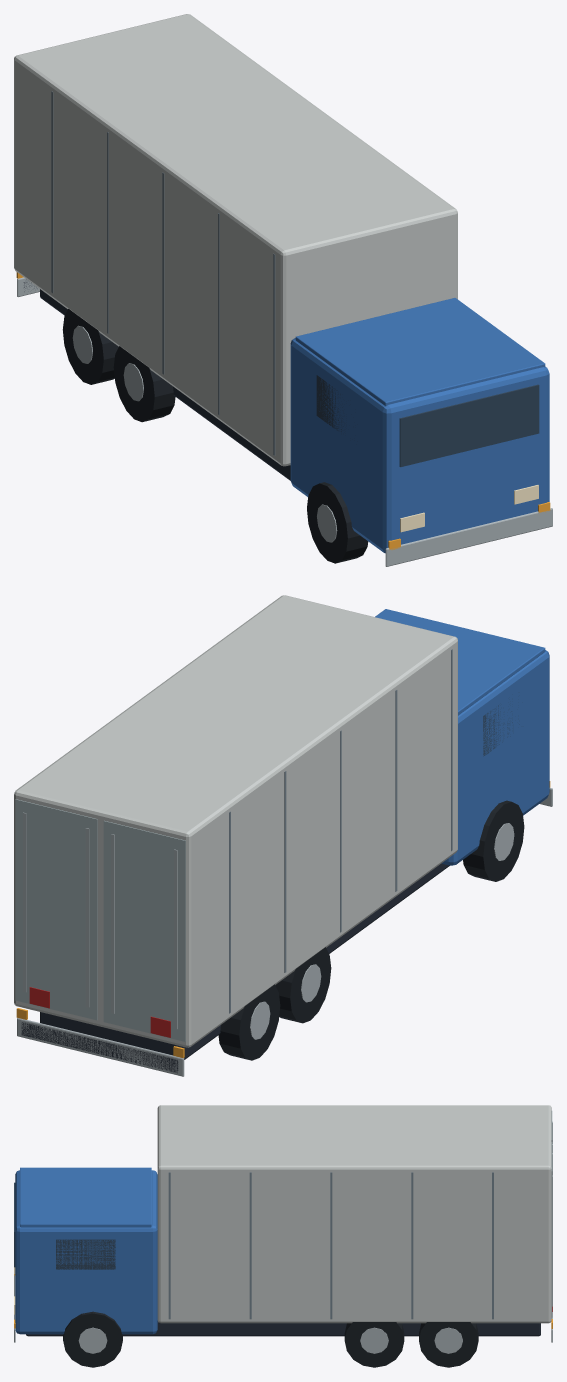
Rendered from npc_box_truck.glb.
3 views of the same model, one above another, from view 1: azimuth 30°, elevation 25°; view 2: azimuth 150°, elevation 25°; view 3: azimuth 270°, elevation 25° (orthographic). The views are drawn at different scales.
Visible parts, largest first — view 1: cargo_box, cab, cab_roof, windshield, front_bumper, wheel_F_R_tire, wheel_R1_R_tire, wheel_R2_R_tire, chassis, cab_side_window_R; view 2: cargo_box, rear_cargo_door_0, rear_cargo_door_1, cab, cab_roof, rear_bumper, chassis, wheel_F_R_tire, wheel_R2_R_tire, wheel_R1_R_tire, rear_underrun, door_lock_rod_2 (+8 smaller); view 3: cargo_box, cab, cab_roof, chassis, wheel_F_L_tire, cab_side_window_L, wheel_R1_L_tire, wheel_R2_L_tire, wheel_R1_L_hub, wheel_F_L_hub, wheel_R2_L_hub, cargo_seam_0_L (+4 smaller).
Boxes of the visible parts, left/top/right/bottom form: cargo_box: left=14, top=14, right=457, bottom=466; cab: left=290, top=338, right=549, bottom=553; cab_roof: left=295, top=298, right=545, bottom=406; windshield: left=399, top=384, right=539, bottom=467; front_bumper: left=385, top=508, right=552, bottom=566; wheel_F_R_tire: left=307, top=482, right=368, bottom=563; wheel_R1_R_tire: left=113, top=346, right=175, bottom=422; wheel_R2_R_tire: left=62, top=309, right=118, bottom=384; chassis: left=40, top=289, right=290, bottom=480; cab_side_window_R: left=316, top=375, right=343, bottom=431; cargo_box: left=14, top=595, right=457, bottom=1047; rear_cargo_door_0: left=103, top=820, right=185, bottom=1041; rear_cargo_door_1: left=15, top=799, right=97, bottom=1020; cab: left=442, top=650, right=549, bottom=865; cab_roof: left=375, top=609, right=545, bottom=715; rear_bumper: left=17, top=1018, right=184, bottom=1076; chassis: left=40, top=863, right=449, bottom=1059; wheel_F_R_tire: left=463, top=800, right=524, bottom=881; wheel_R2_R_tire: left=218, top=984, right=280, bottom=1060; wheel_R1_R_tire: left=275, top=947, right=331, bottom=1023; rear_underrun: left=21, top=1022, right=178, bottom=1073; door_lock_rod_2: left=85, top=828, right=89, bottom=1007; cargo_box: left=157, top=1105, right=551, bottom=1323; cab: left=15, top=1170, right=157, bottom=1334; cab_roof: left=20, top=1167, right=151, bottom=1227; chassis: left=26, top=1321, right=540, bottom=1336; wheel_F_L_tire: left=63, top=1311, right=122, bottom=1367; cab_side_window_L: left=56, top=1239, right=115, bottom=1269; wheel_R1_L_tire: left=344, top=1322, right=404, bottom=1367; wheel_R2_L_tire: left=419, top=1322, right=478, bottom=1367; wheel_R1_L_hub: left=360, top=1327, right=388, bottom=1353; wheel_F_L_hub: left=78, top=1327, right=107, bottom=1353; wheel_R2_L_hub: left=434, top=1327, right=462, bottom=1353; cargo_seam_0_L: left=168, top=1172, right=170, bottom=1319.
Bounding box in the file's own units: 2.5 × 3.7 × 9.
